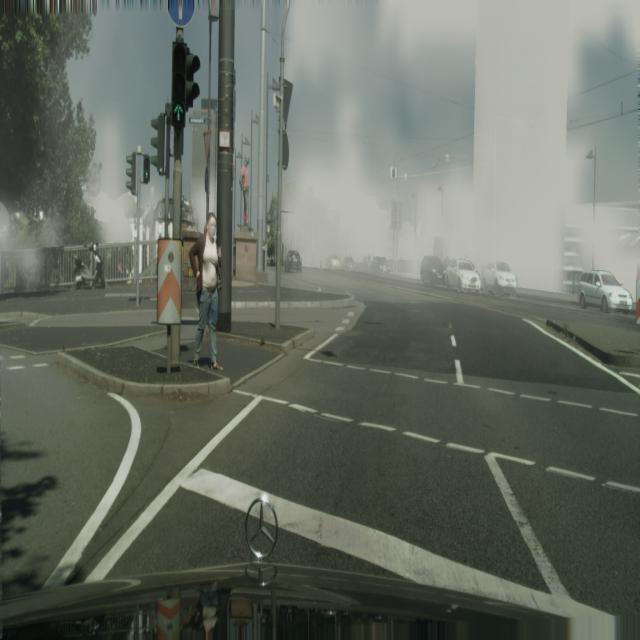bus: (74, 246, 106, 291)
person: (188, 212, 224, 371)
truck: (578, 269, 633, 312), (443, 258, 481, 294), (482, 260, 518, 297), (420, 255, 444, 286), (285, 249, 302, 273), (370, 255, 389, 276), (342, 256, 356, 272), (329, 256, 341, 271)
